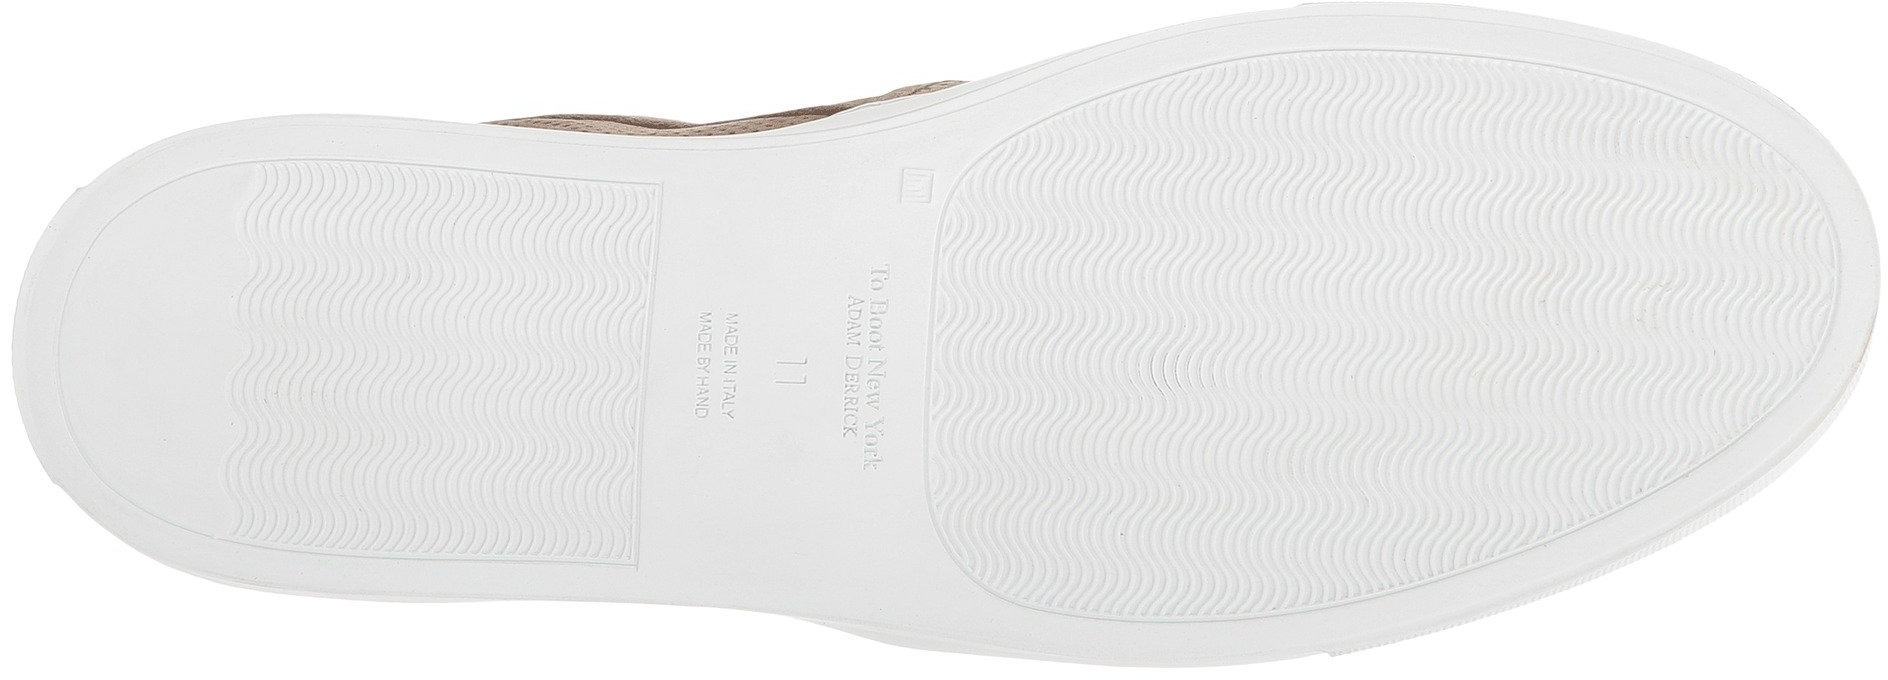chevron: (1007, 146, 1371, 478), (1368, 105, 1683, 471), (273, 215, 616, 528), (1050, 134, 1203, 288), (1073, 481, 1213, 610)
circle: (812, 250, 924, 357)
other: (78, 273, 242, 428)
text: (657, 215, 916, 493), (806, 357, 913, 481), (812, 250, 924, 357), (669, 274, 777, 373), (662, 373, 773, 463), (884, 150, 949, 229)
